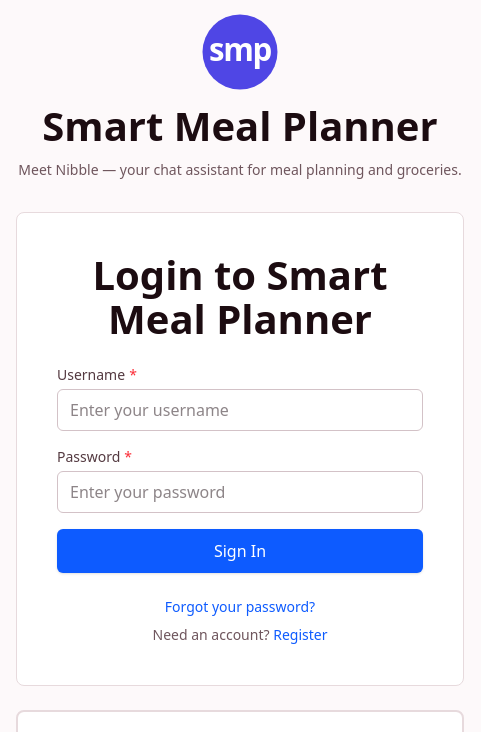
Test: LoginPage › handles login error correctly
Note: Fill in the form
Type "testuser" into the field labelled "Username*" at (240, 410), box [57,389,423,431]
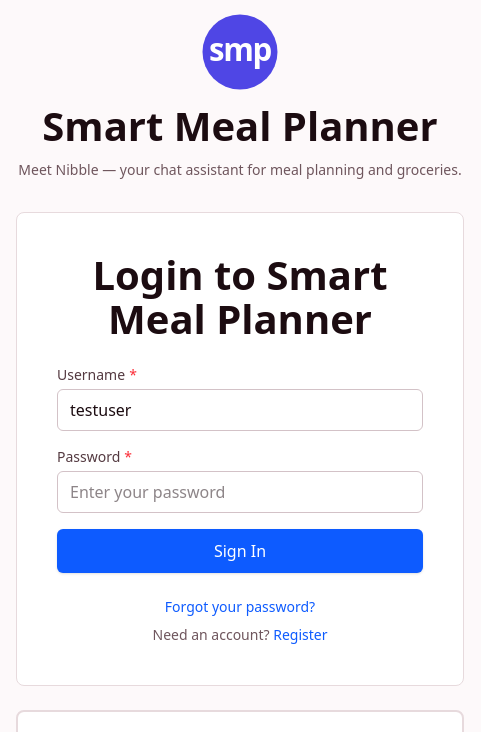
Type "wrongpassword" into the password field labelled "Password*" at (240, 492), box [57,471,423,513]
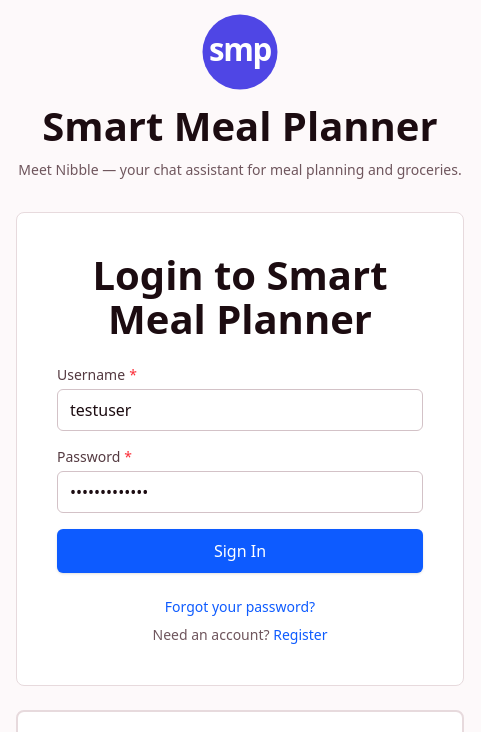
Note: Submit the form
Click the button "Sign In" at (240, 551), box [57,529,423,573]
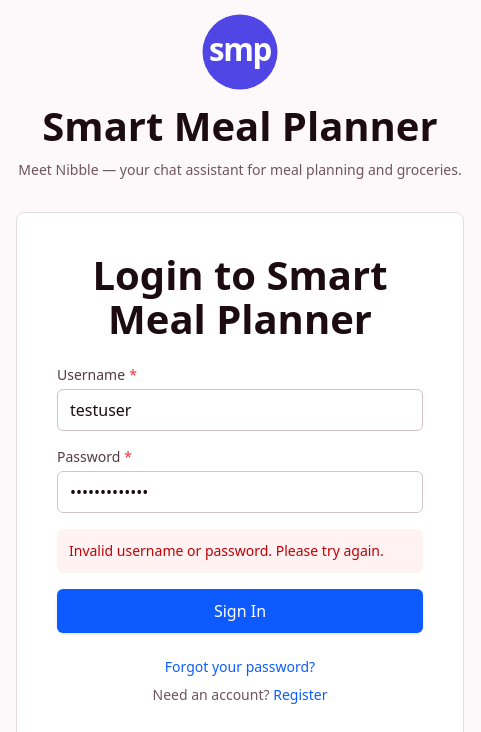
Expected: the text "Invalid username or password. Please try again." is shown, [57,529,423,573]
